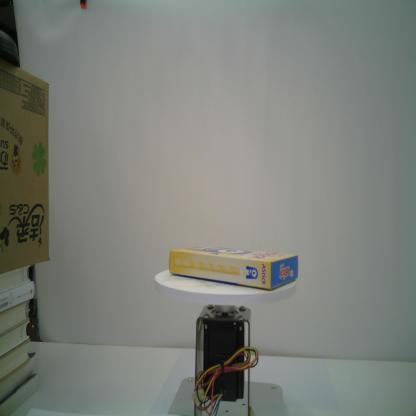Dessert: (170, 244, 298, 290)
